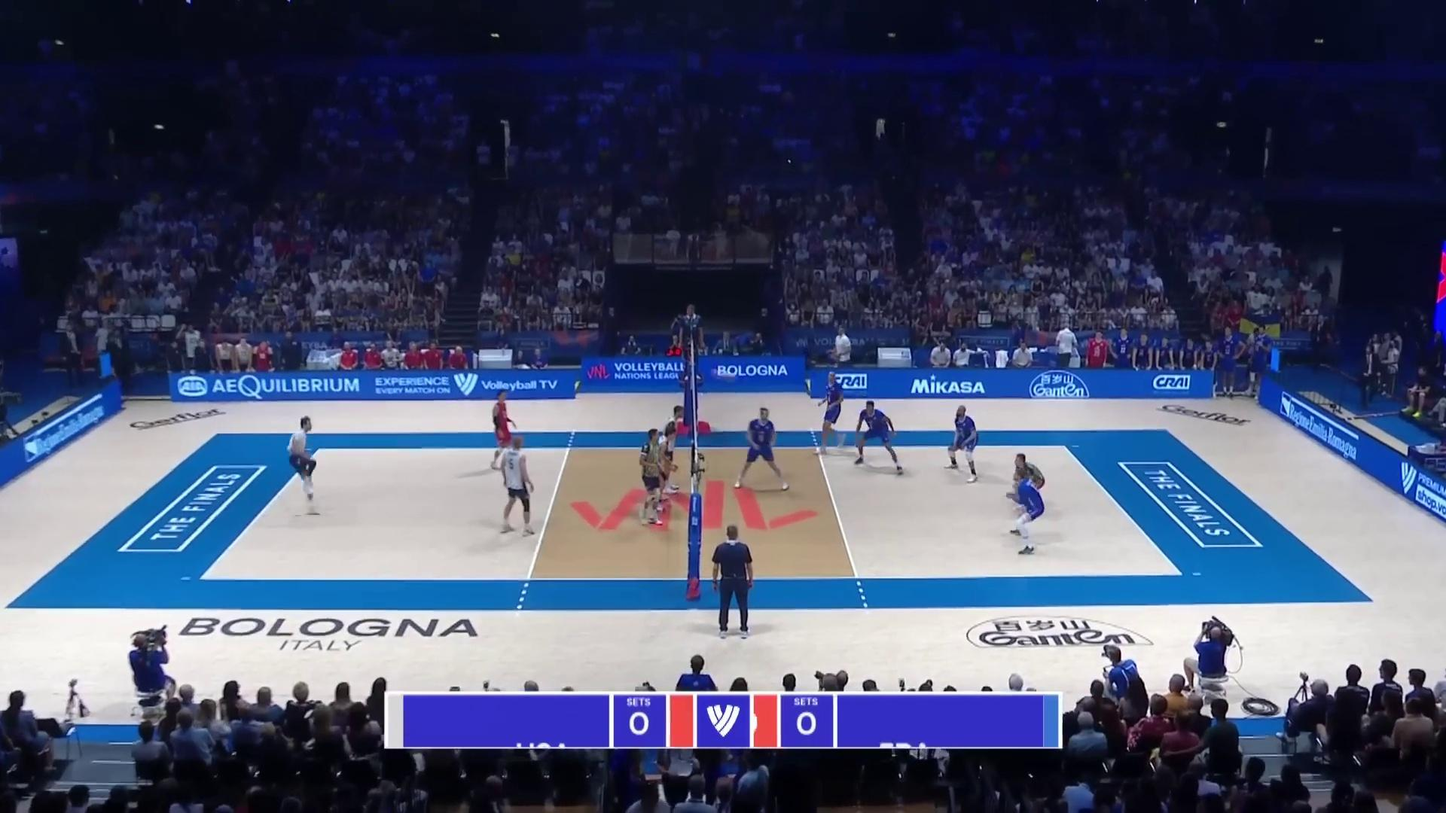player: (732, 408, 788, 492), (854, 401, 903, 472), (498, 436, 533, 535), (1007, 465, 1044, 558), (287, 416, 320, 513), (489, 390, 521, 472), (638, 429, 665, 526), (949, 405, 980, 483), (819, 372, 845, 454), (1010, 452, 1045, 512), (651, 427, 676, 511), (662, 405, 684, 492)
refree: (711, 527, 754, 638), (677, 307, 704, 381)
